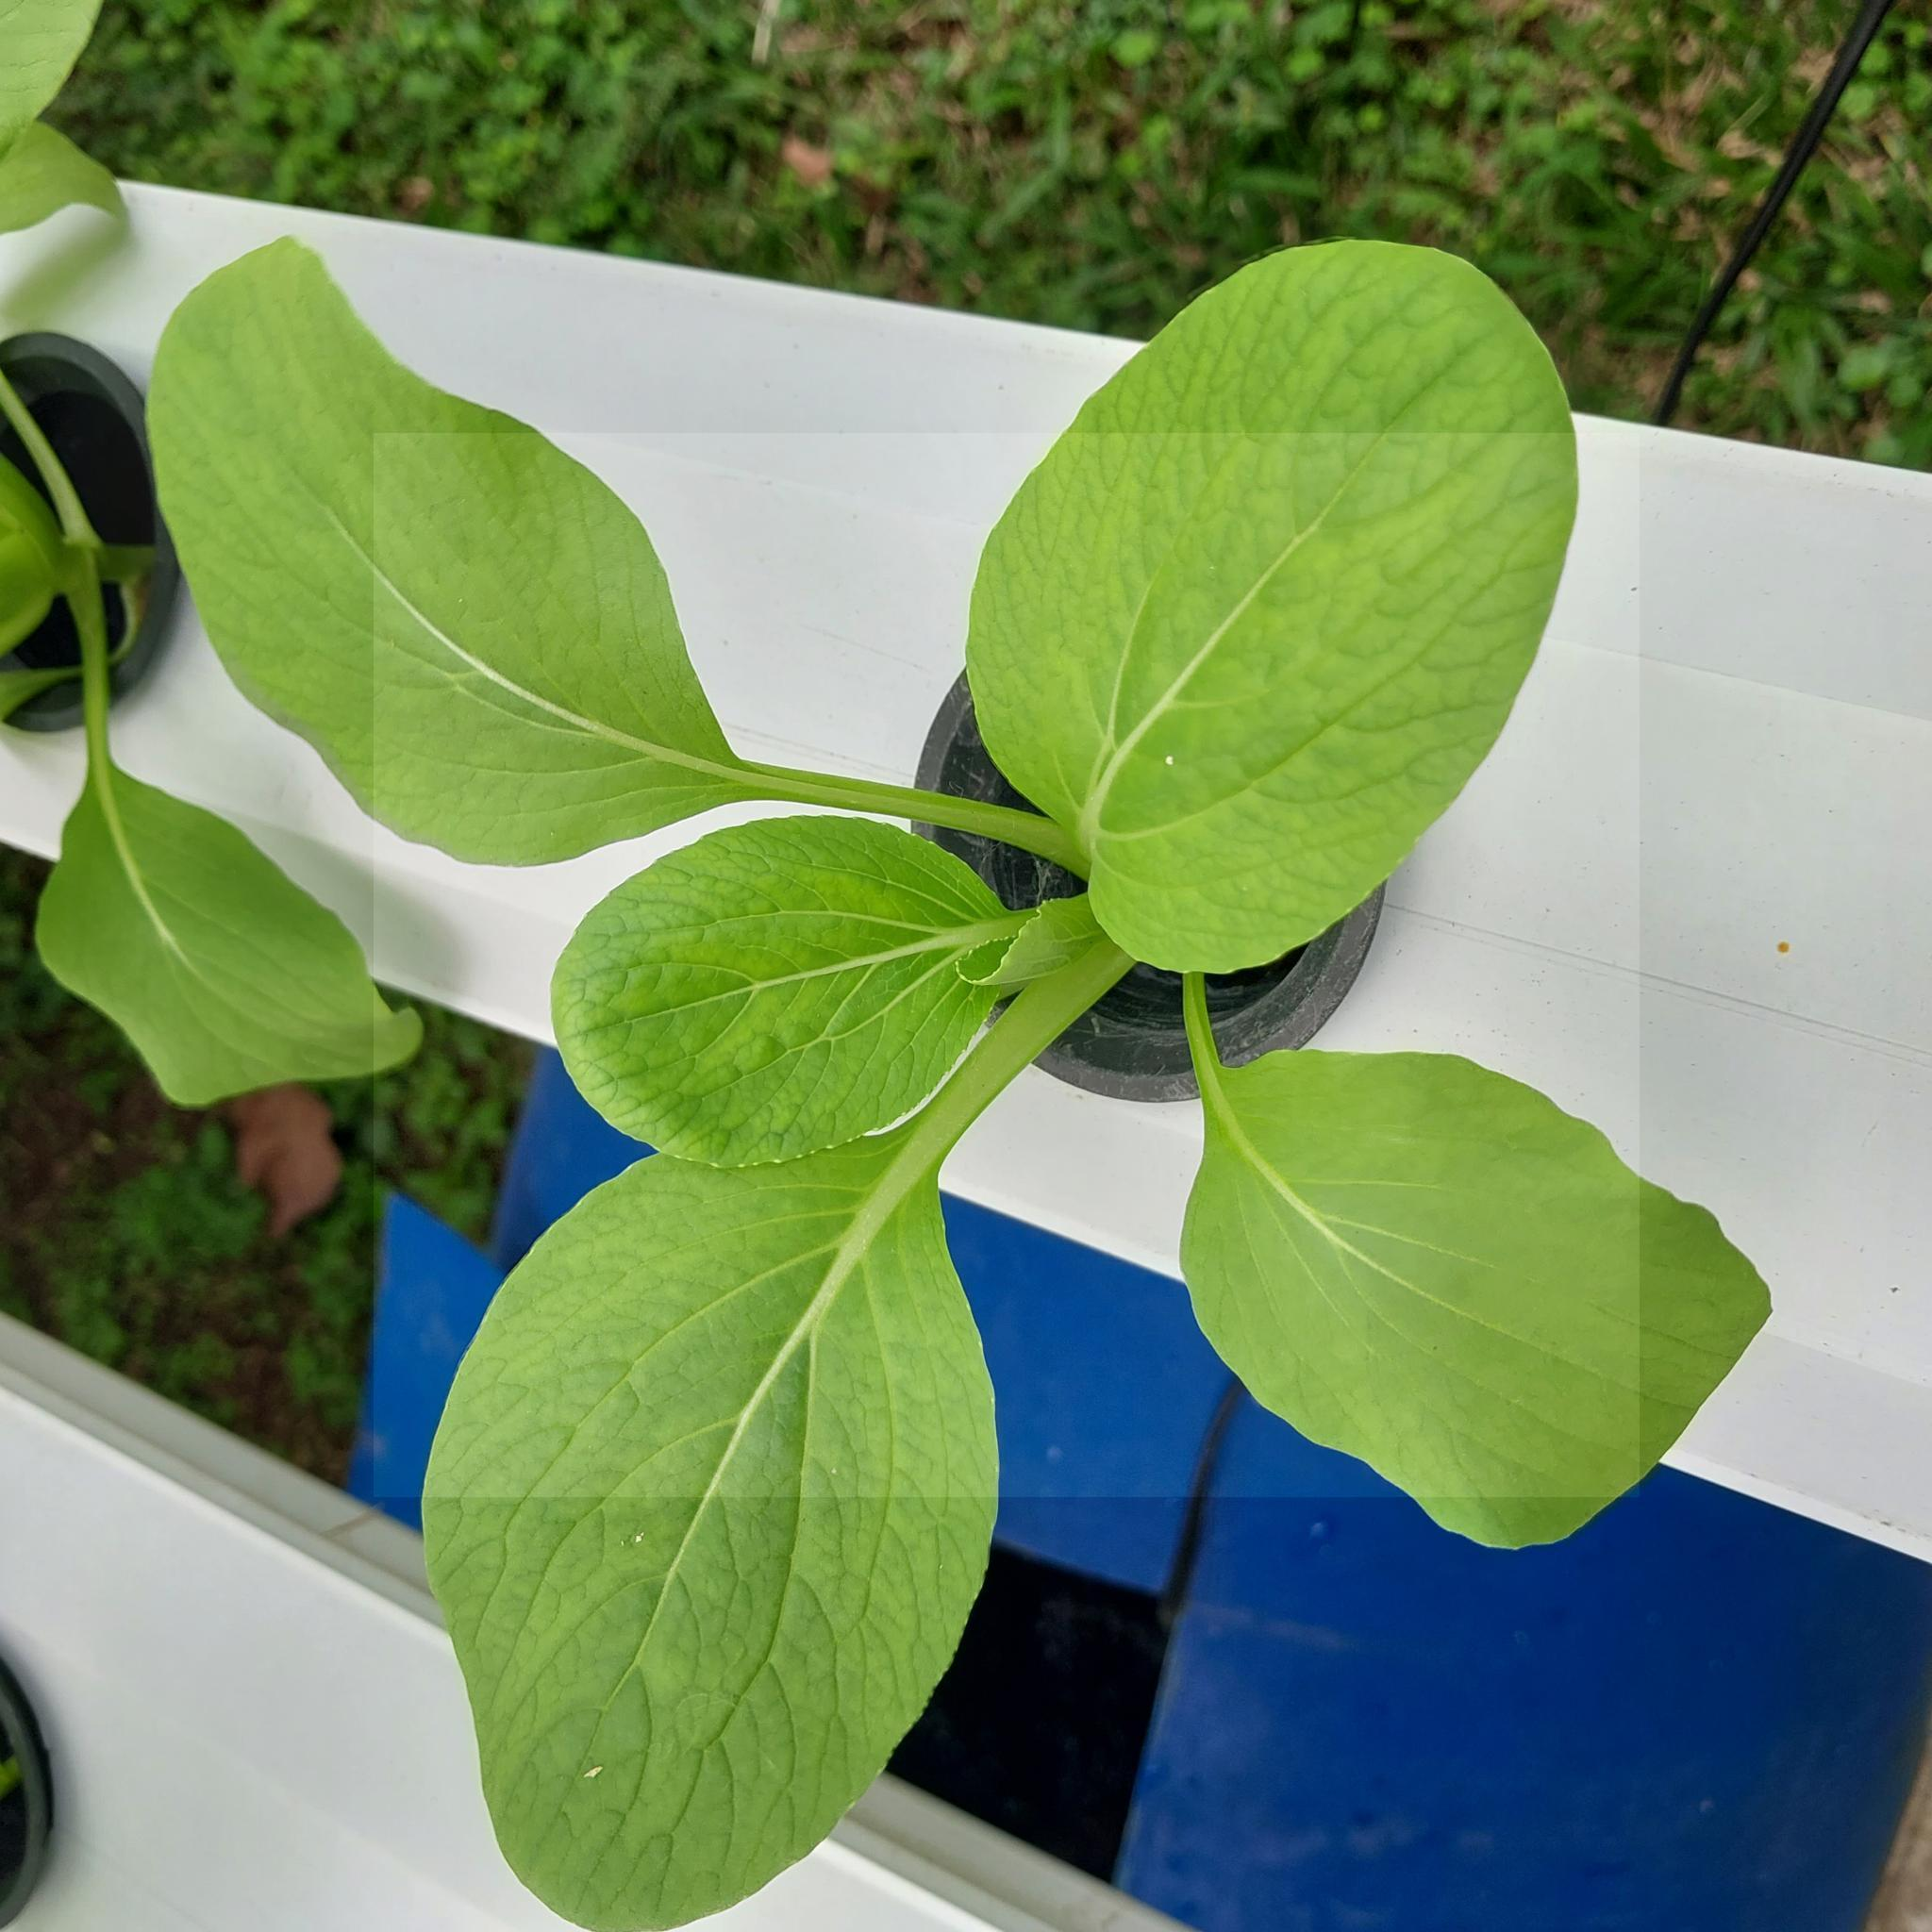Healthy-Pechay: (429, 1098, 974, 1932), (149, 257, 766, 839), (1179, 1011, 1774, 1543), (61, 753, 441, 1132), (1144, 254, 1539, 507), (848, 944, 1084, 1184), (0, 335, 115, 585), (42, 534, 125, 808), (3, 113, 124, 248), (1180, 971, 1250, 1118), (1215, 161, 1326, 213), (67, 1059, 137, 1124), (1836, 343, 1900, 392), (1834, 81, 1883, 123), (1108, 27, 1159, 67), (1283, 45, 1326, 81), (1355, 103, 1389, 135)
